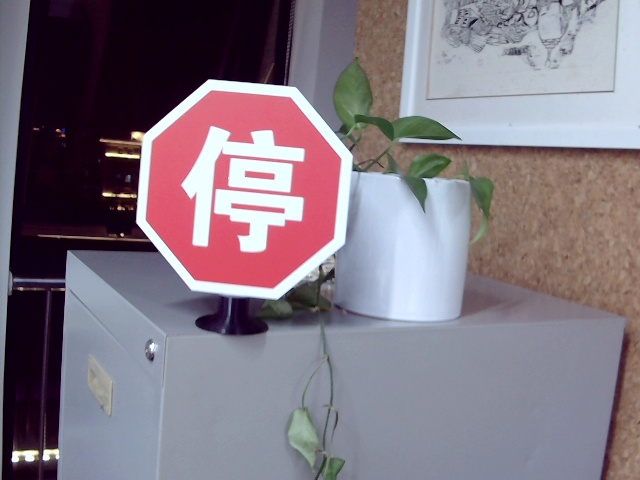stop: (184, 117, 306, 255)
